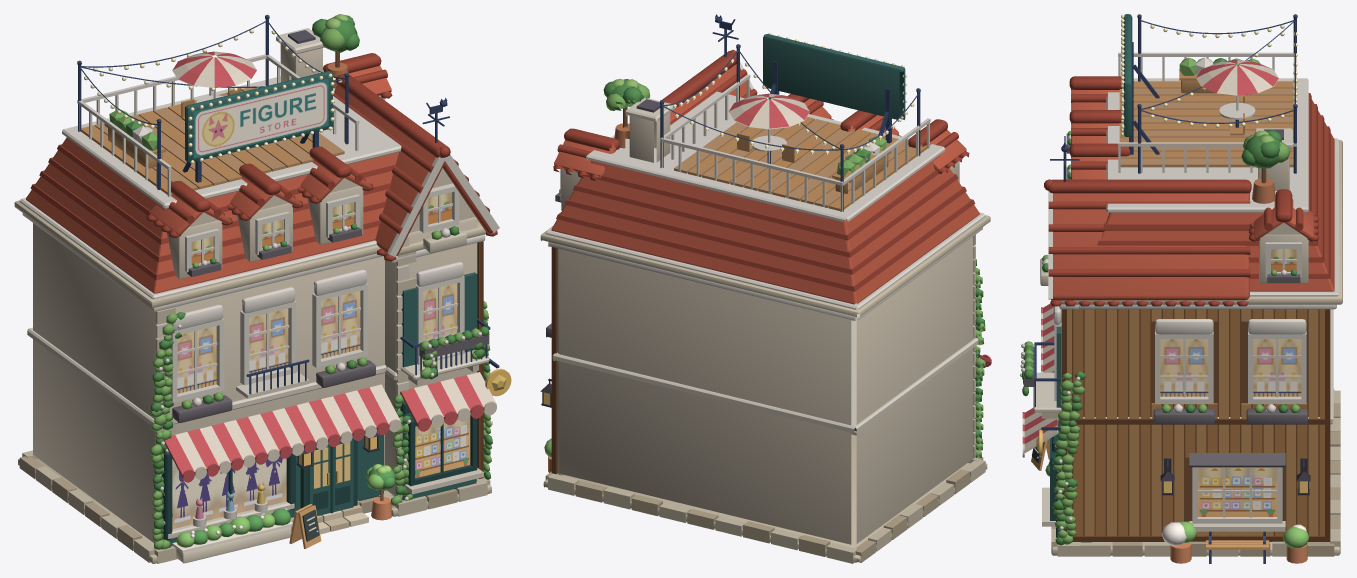
File: ac_shop3_r0.glb
The picture shows the model from 3 angles, left to right: view 1: azimuth 30°, elevation 25°; view 2: azimuth 150°, elevation 25°; view 3: azimuth 270°, elevation 25°; orthographic projection. The views are drawn at different scales.
Parts seen in each view (by area): view 1: body, nomask; view 2: body; view 3: body, nomask.
Part boxes in pixels (x1,y1,x2,y2): body: [14, 14, 511, 563]; nomask: [172, 464, 395, 563]; body: [540, 14, 991, 563]; body: [1020, 14, 1342, 556]; nomask: [1031, 439, 1309, 563].
Size of the model in its own units: 11.98 by 13.83 by 9.73.
15 materials, 5 textured.
